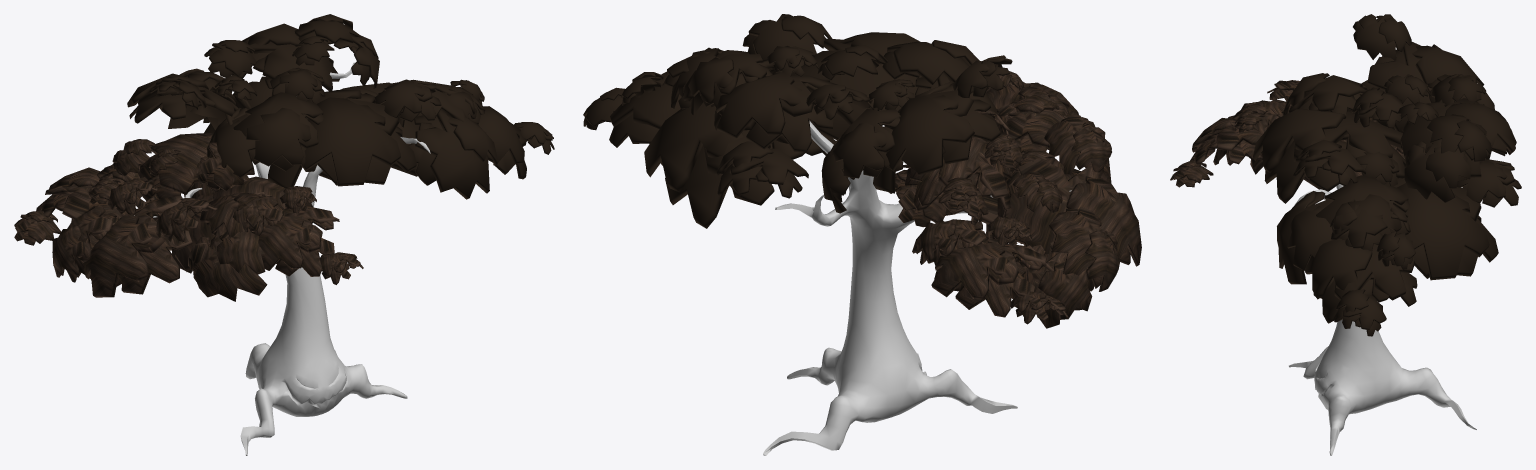
File: CH_CE_Tree_02_Cute.fbx
The picture shows the model from 3 angles, left to right: view 1: azimuth 30°, elevation 25°; view 2: azimuth 150°, elevation 25°; view 3: azimuth 270°, elevation 25°; orthographic projection. The views are drawn at different scales.
Parts seen in each view (by area): view 1: CH_CE_Tree_Hell4, CH_CE_prop_Tree_Hell_V2; view 2: CH_CE_Tree_Hell4, CH_CE_prop_Tree_Hell_V2; view 3: CH_CE_Tree_Hell4, CH_CE_prop_Tree_Hell_V2.
Boxes of the visible parts, left/top/right/bottom form: CH_CE_Tree_Hell4: left=14, top=14, right=554, bottom=301; CH_CE_prop_Tree_Hell_V2: left=134, top=62, right=430, bottom=455; CH_CE_Tree_Hell4: left=583, top=14, right=1141, bottom=328; CH_CE_prop_Tree_Hell_V2: left=763, top=120, right=1071, bottom=455; CH_CE_Tree_Hell4: left=1170, top=14, right=1521, bottom=336; CH_CE_prop_Tree_Hell_V2: left=1289, top=184, right=1481, bottom=455.
Bounding box in the file's own units: 997 × 695 × 648.
